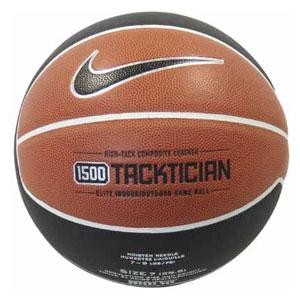basketball: (15, 10, 288, 288)
